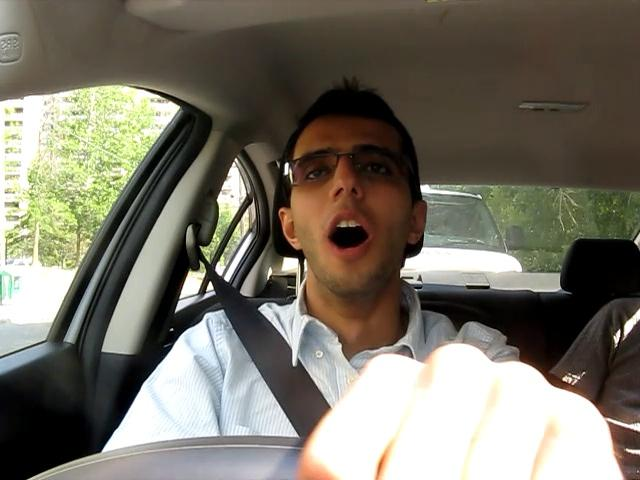close_eyeL: (293, 159, 344, 189)
close_eyeR: (352, 155, 408, 185)
yawn: (308, 213, 389, 259)
